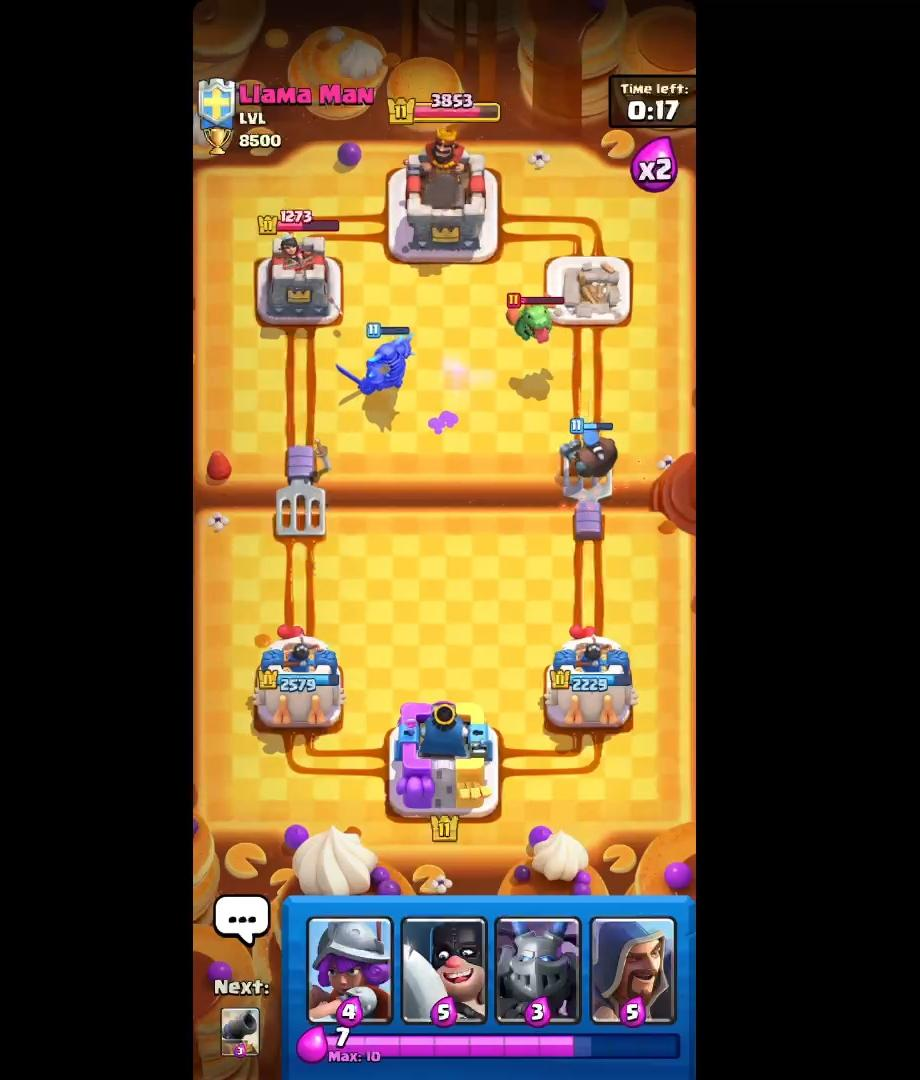Baby Dragon: (500, 286, 571, 352)
